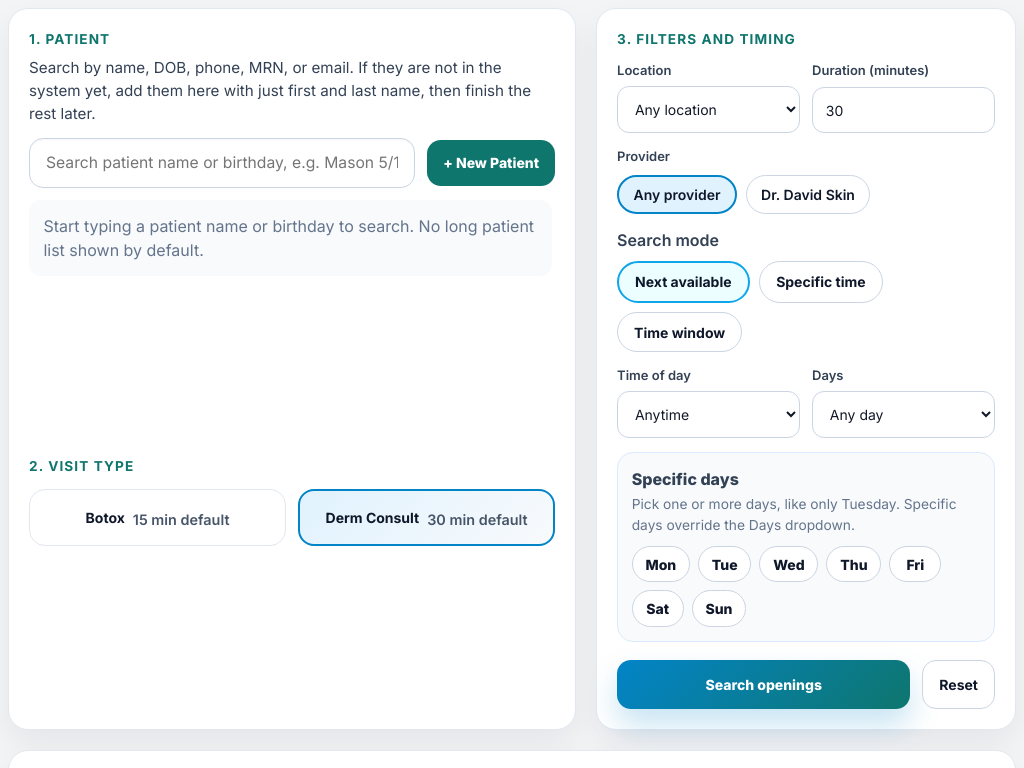
Scenario: AppointmentFinderWorkspace › quick-adds a patient with first and last name and selects them for scheduling
Click the button "+ New Patient".
click(491, 163)  # box [427,140,555,186]
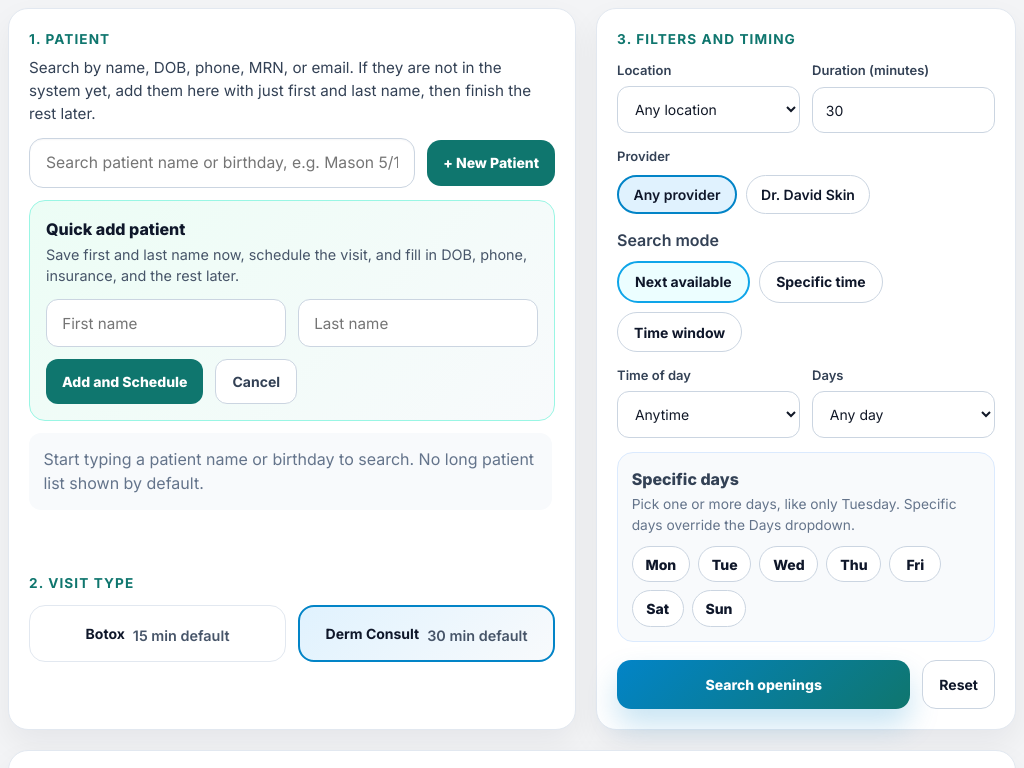
Type "Jamie" into the field named "Quick add patient first name".
click(166, 323); type("Jamie")  # box [46,299,286,347]
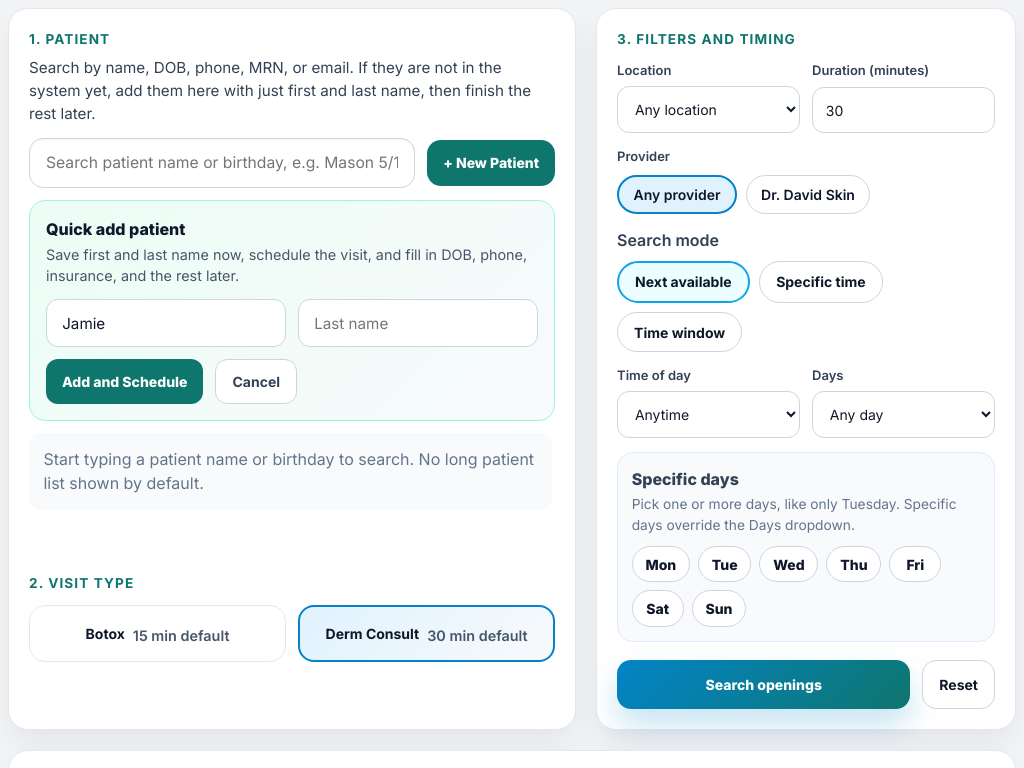
Type "Patient" into the field named "Quick add patient last name".
click(418, 323); type("Patient")  # box [298,299,538,347]
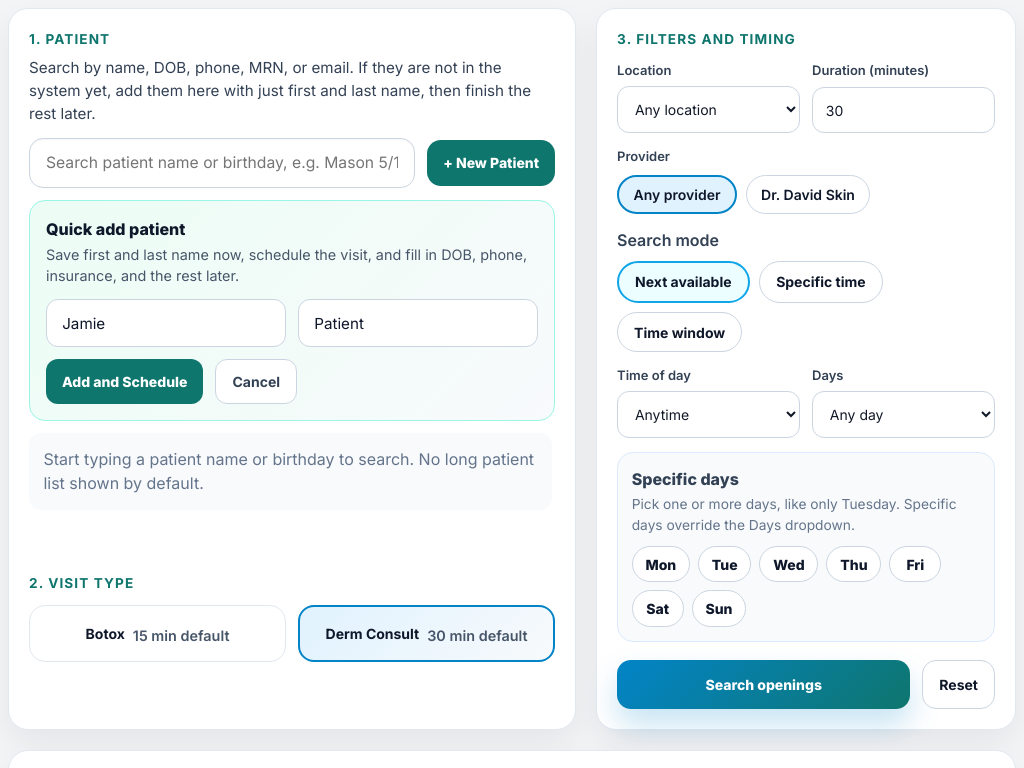
Click the button "Add and Schedule".
click(125, 382)  # box [46,359,203,404]
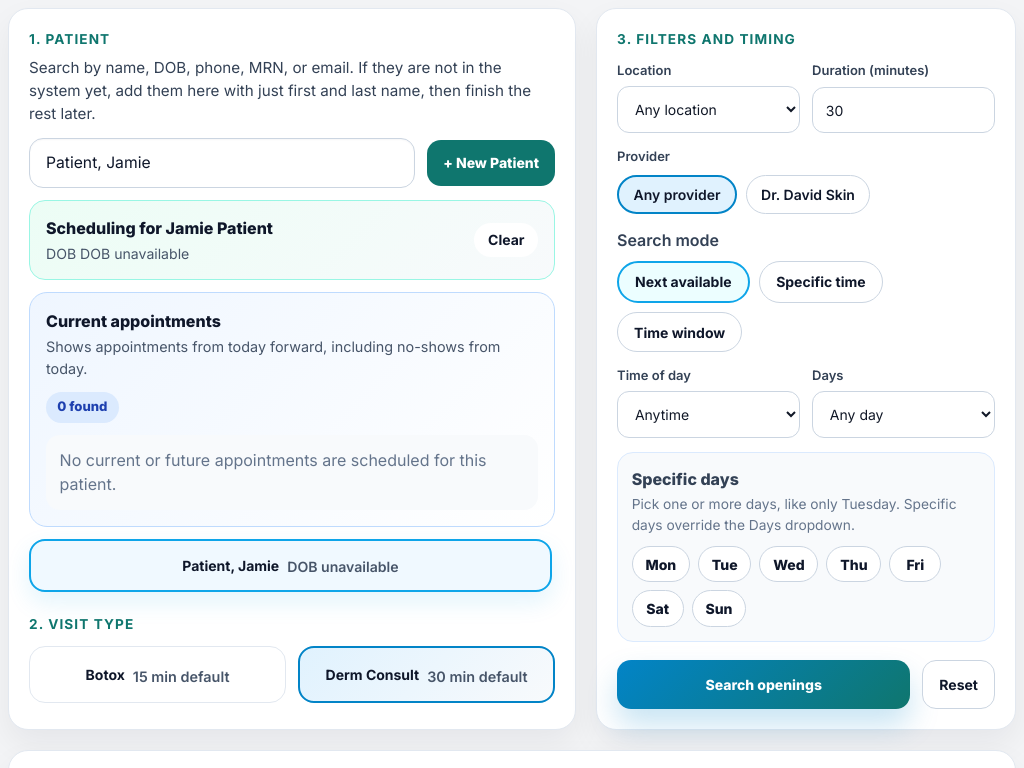
Expected: the text "Scheduling for Jamie Patient" is shown, [46,216,273,240]
